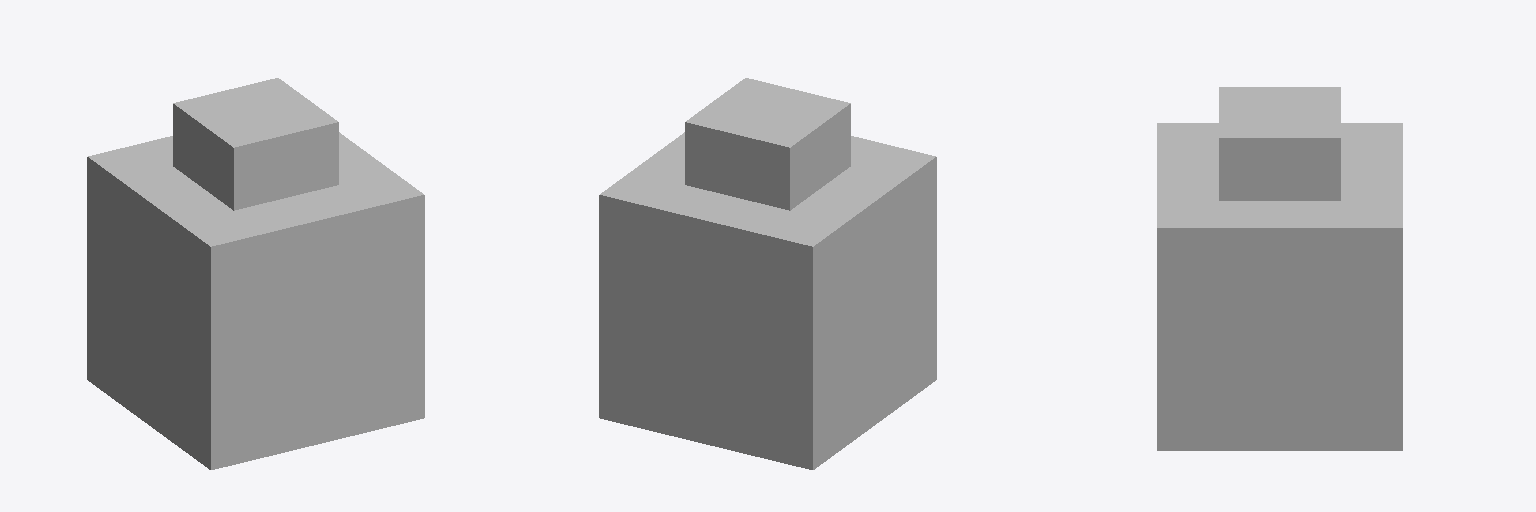
File: abc.obj
3 views of the same model, side by side, from view 1: azimuth 30°, elevation 25°; view 2: azimuth 150°, elevation 25°; view 3: azimuth 270°, elevation 25° (orthographic).
Bounding box in the file's own units: 2 × 2.56 × 2.